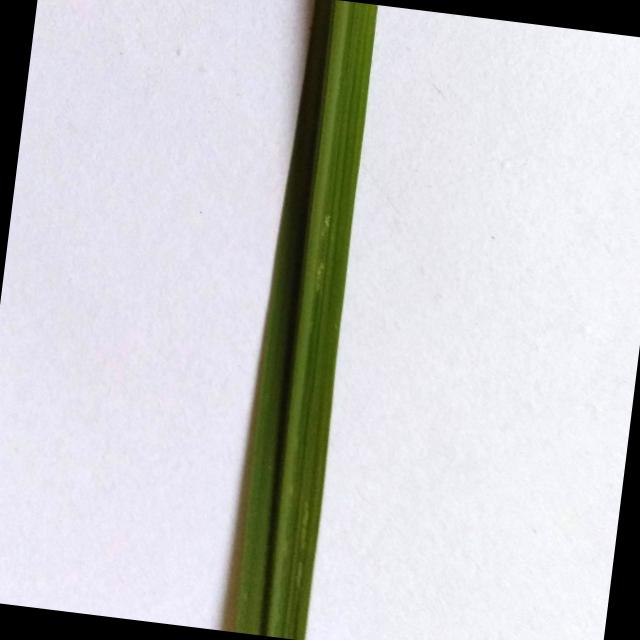Rice_Healthy: (228, 0, 376, 640)
